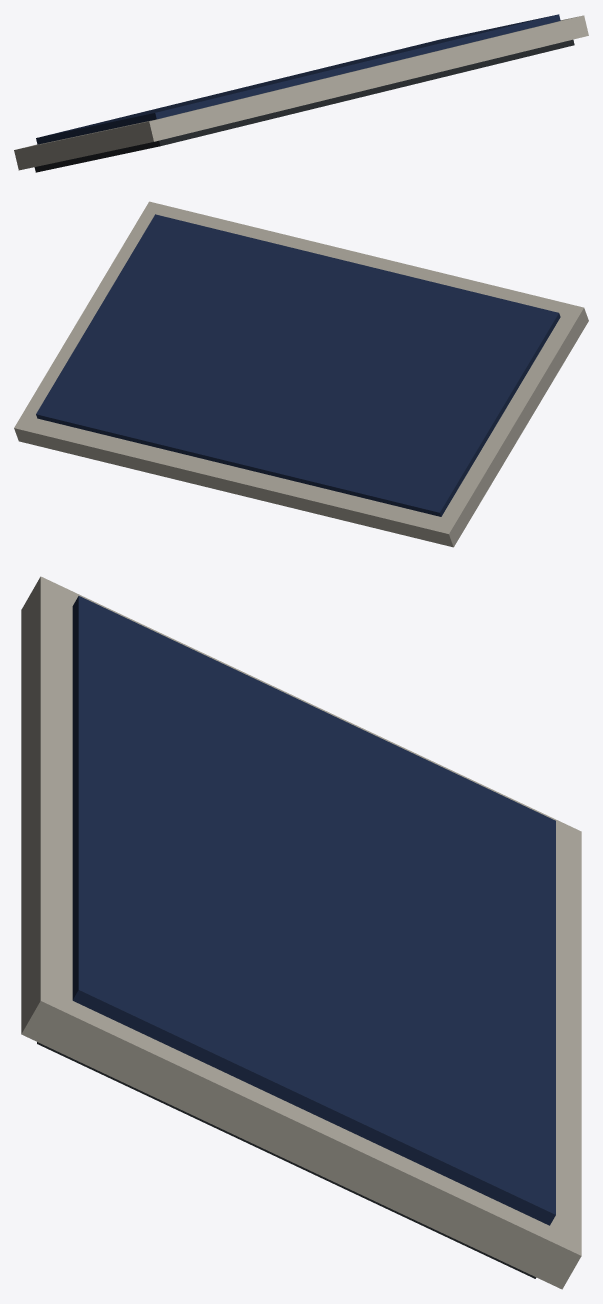
The model's file is power-solar.glb.
3 views of the same model, one above another, from view 1: azimuth 30°, elevation 25°; view 2: azimuth 150°, elevation 25°; view 3: azimuth 270°, elevation 25° (orthographic). The views are drawn at different scales.
Bounding box in the file's own units: 1.68 × 0.5331 × 0.9371.
